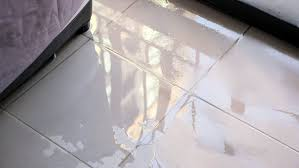Wet-floor: (0, 6, 191, 164)
